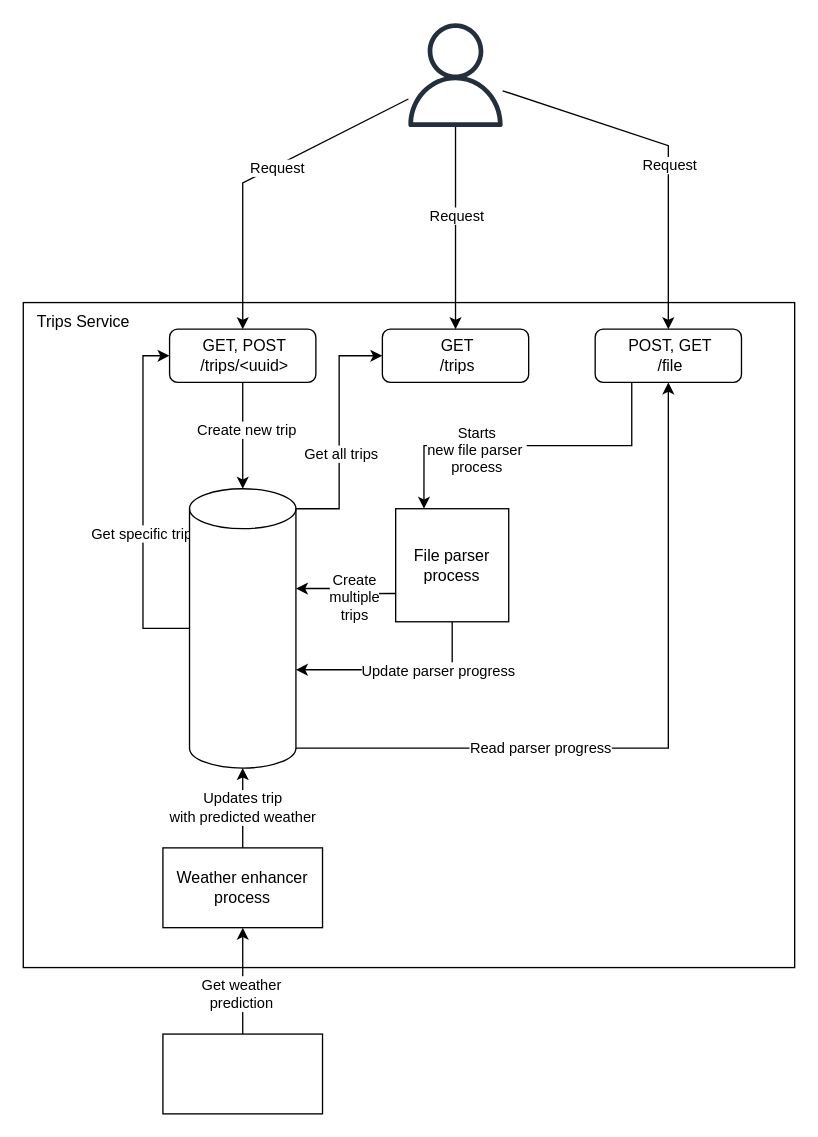
This 818x1137 diagram has some shape labels left out. The shapes that lost their labels are listed below. From the top down, each one's centre as x and y in pixels, then its label:
At point 242,627: "SQLite".
At point 242,1073: "Weather Service".
